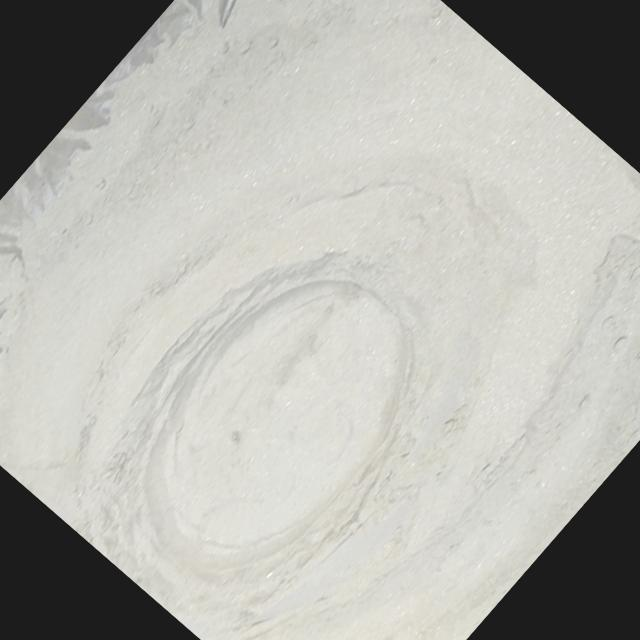C40: (133, 282, 405, 573)
